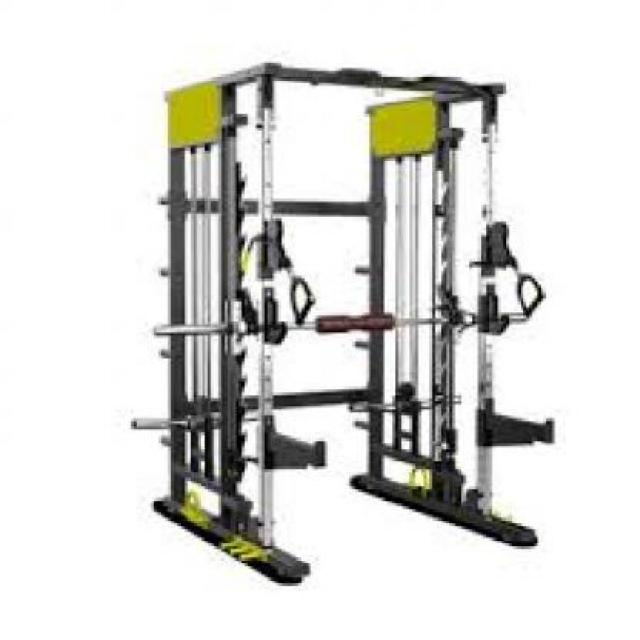smith machine: (132, 60, 557, 591)
